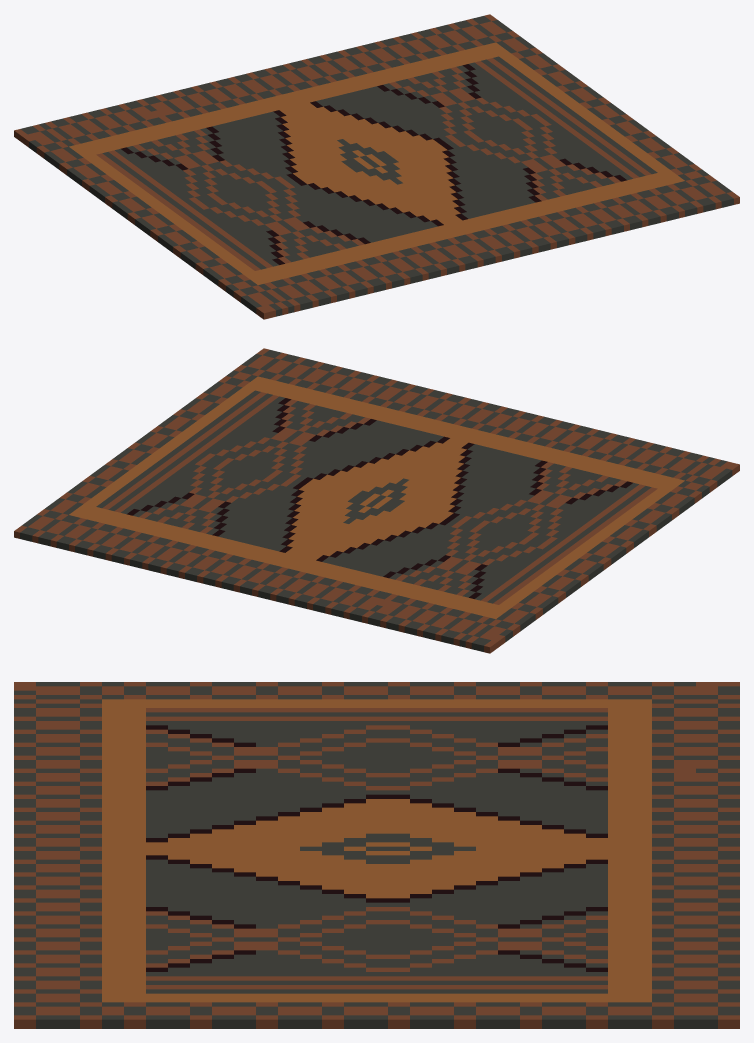
Rendered from tapis_chambre3.fbx.
3 views of the same model, one above another, from view 1: azimuth 30°, elevation 25°; view 2: azimuth 150°, elevation 25°; view 3: azimuth 270°, elevation 25° (orthographic). The views are drawn at different scales.
Visible parts, largest first — view 1: Tapis chambre 3; view 2: Tapis chambre 3; view 3: Tapis chambre 3.
Boxes of the visible parts, x1,y1,x2,y2 form: Tapis chambre 3: [14, 14, 739, 319]; Tapis chambre 3: [14, 348, 739, 653]; Tapis chambre 3: [14, 682, 739, 1028].
Bounding box in the file's own units: 78 × 1 × 70.9.
